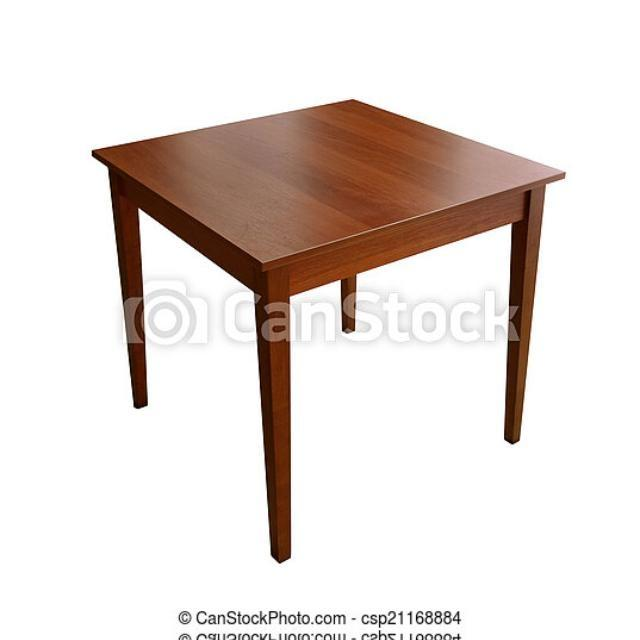obstacle: (84, 44, 602, 582)
